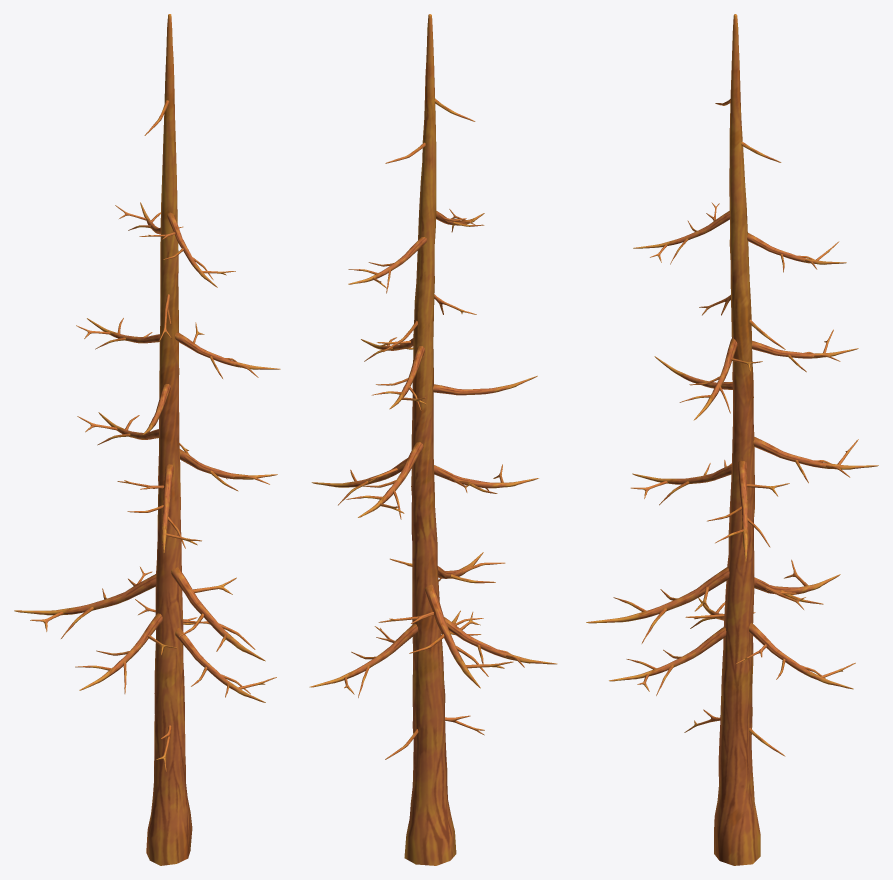
The model's file is tree_5_hb.glb.
3 views of the same model, side by side, from view 1: azimuth 30°, elevation 25°; view 2: azimuth 150°, elevation 25°; view 3: azimuth 270°, elevation 25° (orthographic).
Visible parts, largest first — view 1: hit_box5; view 2: hit_box5; view 3: hit_box5.
Boxes of the visible parts, x1,y1,x2,y2 form: hit_box5: (14,14,280,865); hit_box5: (309,14,557,865); hit_box5: (586,14,878,865).
Size of the model in its own units: 4.01 by 14.33 by 4.52.
1 material, 1 textured.
